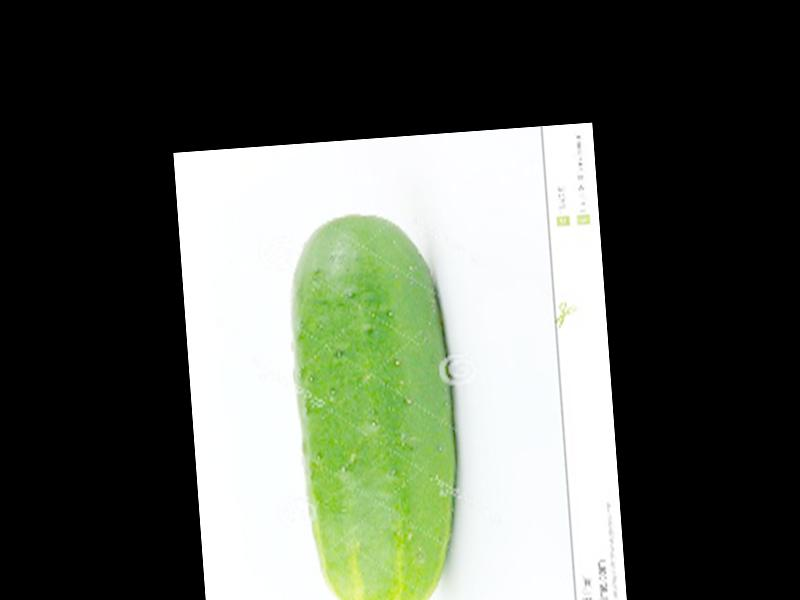Cucumber: (286, 207, 468, 600)
